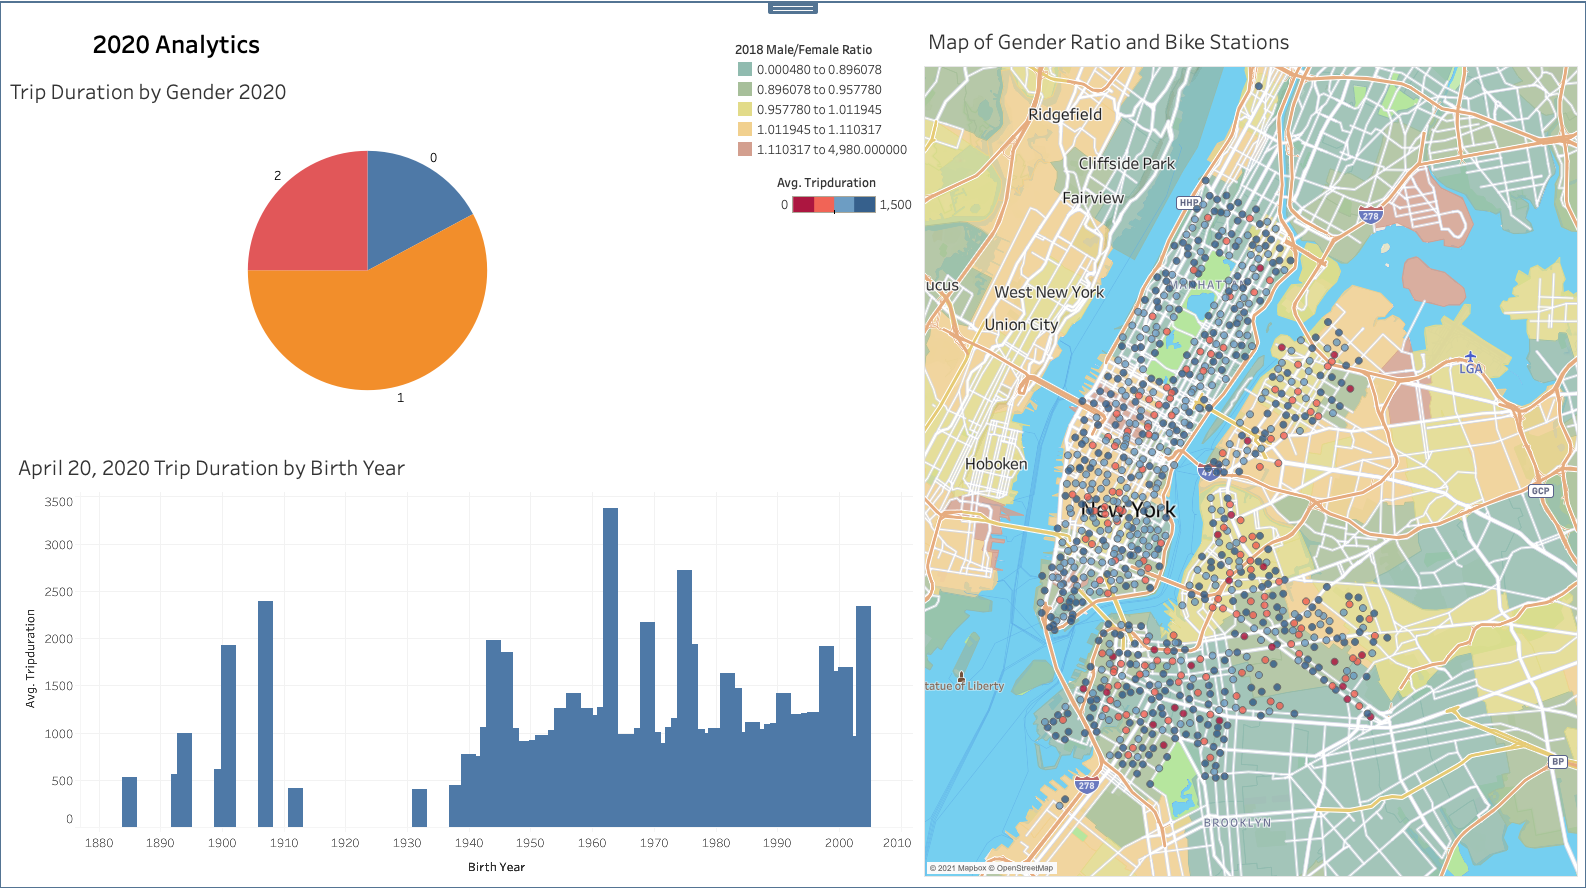

This screenshot's page, from the dashboard's own definition file:
{"tool":"tableau","page":{"name":"2020 Analytics","canvas":[1600,900],"ordinal":0},"visuals":[{"type":"worksheet","box":[0,0,1600,900]},{"type":"worksheet","param":"vert","box":[8,8,1584,884]},{"type":"worksheet","box":[8,8,1584,884]},{"type":"worksheet","box":[97,28,366,41]},{"type":"worksheet","title":"Map of Gender Ratio and Bike Stations","mark":"Multipolygon","rows":["start station latitude"],"cols":["start station longitude"],"box":[931,28,654,854]},{"type":"worksheet","title":"Map of Gender Ratio and Bike Stations","mark":"Multipolygon","rows":["start station latitude"],"cols":["start station longitude"],"box":[742,46,177,118]},{"type":"worksheet","title":"Trip Duration by Gender 2020","mark":"Pie","box":[13,78,723,352]},{"type":"worksheet","title":"Map of Gender Ratio and Bike Stations","mark":"Multipolygon","rows":["start station latitude"],"cols":["start station longitude"],"param":"[federated.043kdlx18o5lzn1bf9gws06cmujp].[avg:tripduration:qk]","box":[784,179,140,76]},{"type":"worksheet","title":"Apr 2020 Trip Duration & Birth Year","mark":"Bar","rows":["tripduration"],"cols":["birth year"],"box":[21,454,899,433]}]}

Visuals, with their boxes in screenshot pixels (x1, y1, x2, y2), scaled from the page's 1600x900 canvas onto the 1586x888 screenshot:
worksheet: Rect(0, 0, 1585, 887)
worksheet: Rect(8, 8, 1578, 880)
worksheet: Rect(8, 8, 1578, 880)
worksheet: Rect(96, 28, 459, 68)
"Map of Gender Ratio and Bike Stations" worksheet (Multipolygon marks): Rect(923, 28, 1571, 870)
"Map of Gender Ratio and Bike Stations" worksheet (Multipolygon marks): Rect(736, 45, 911, 162)
"Trip Duration by Gender 2020" worksheet (Pie marks): Rect(13, 77, 730, 424)
"Map of Gender Ratio and Bike Stations" worksheet (Multipolygon marks): Rect(777, 177, 916, 252)
"Apr 2020 Trip Duration & Birth Year" worksheet (Bar marks): Rect(21, 448, 912, 875)
